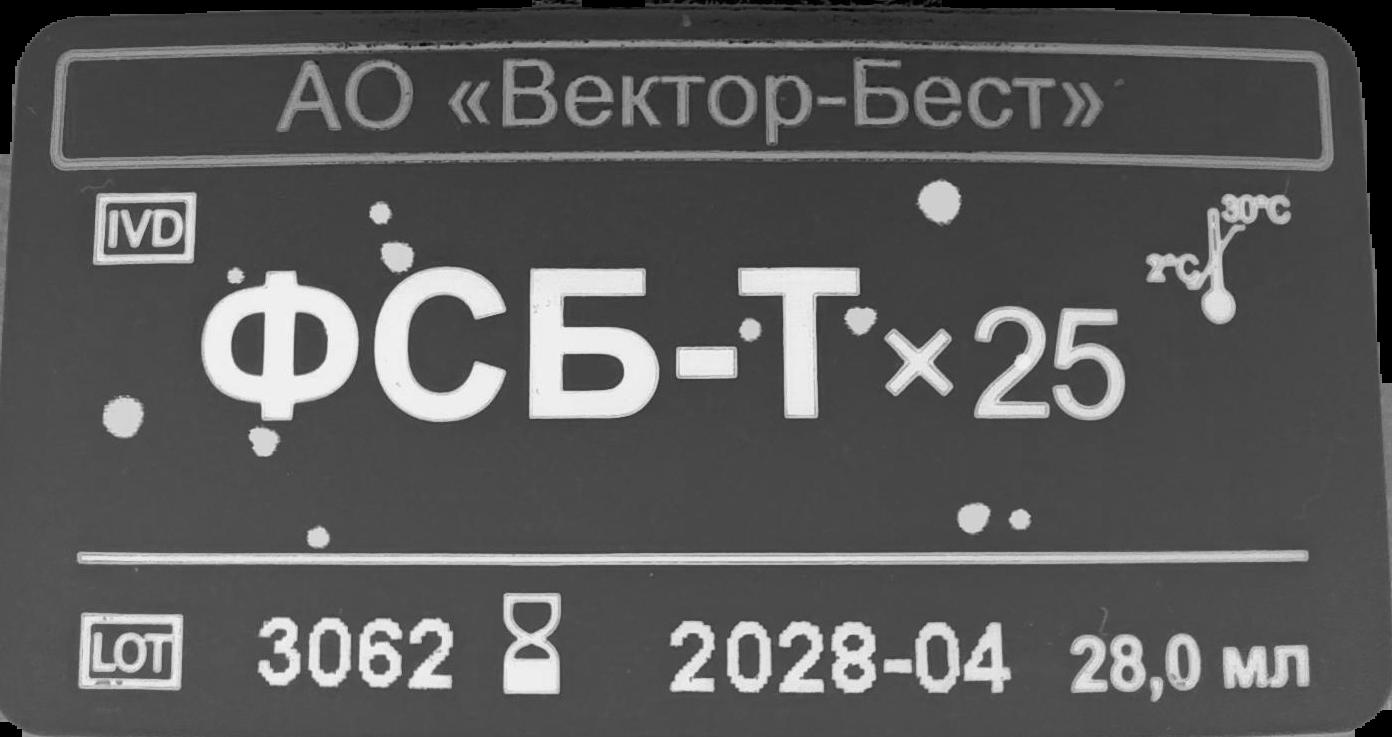something: (1143, 192, 1294, 328), (76, 605, 190, 697), (89, 190, 198, 268), (499, 590, 565, 697)
text: (197, 260, 1137, 434), (273, 55, 1110, 148), (667, 615, 1020, 703), (1066, 630, 1310, 707), (254, 610, 463, 699)
